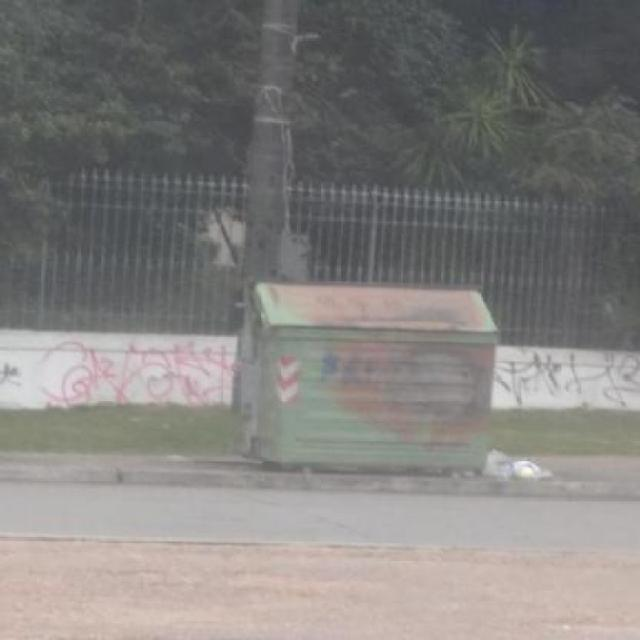garbage: (476, 434, 556, 504)
